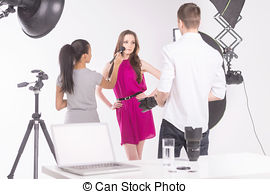face: (69, 36, 104, 70), (173, 1, 205, 37), (116, 21, 144, 59)
